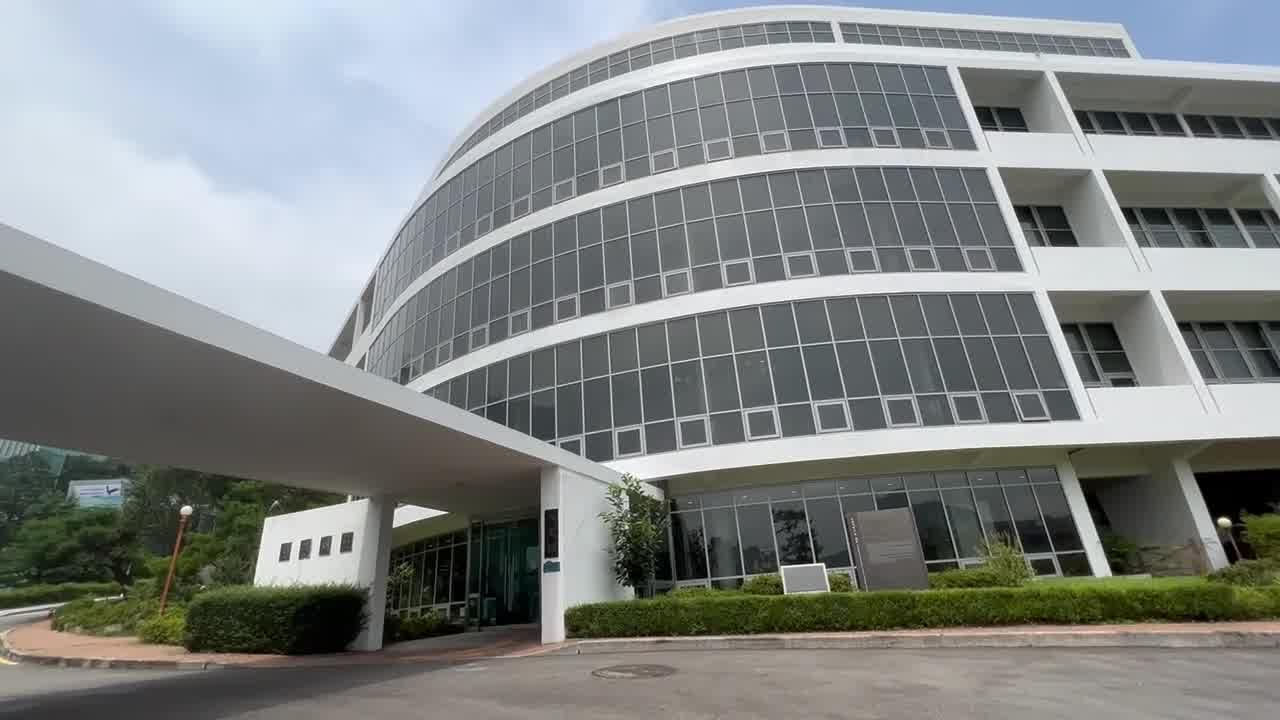building: (462, 21, 1260, 472)
